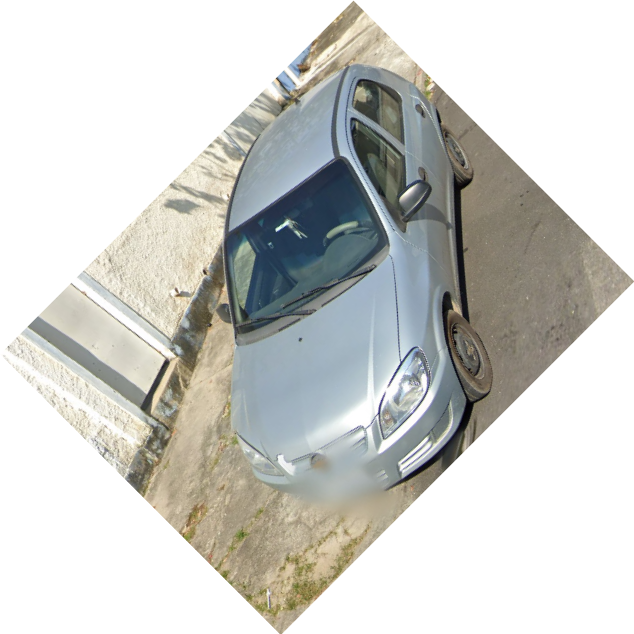car: (221, 64, 494, 500)
